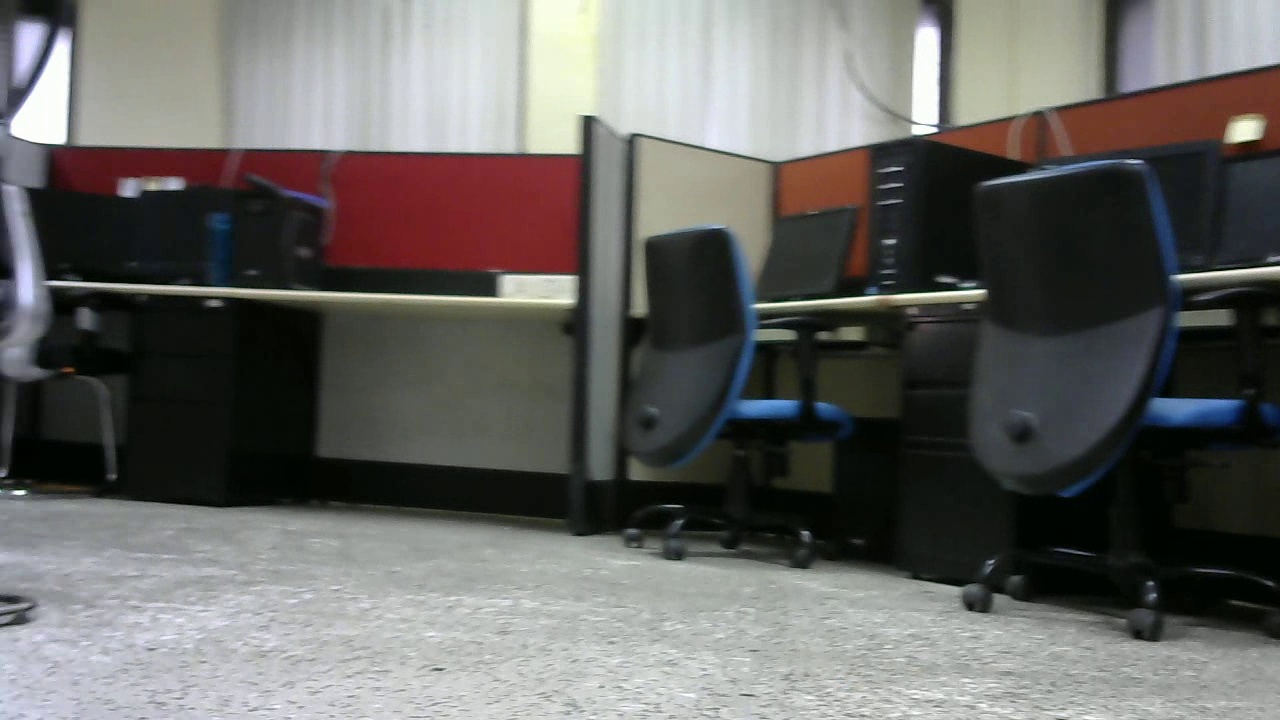chair: (943, 149, 1279, 647), (604, 222, 832, 572)
